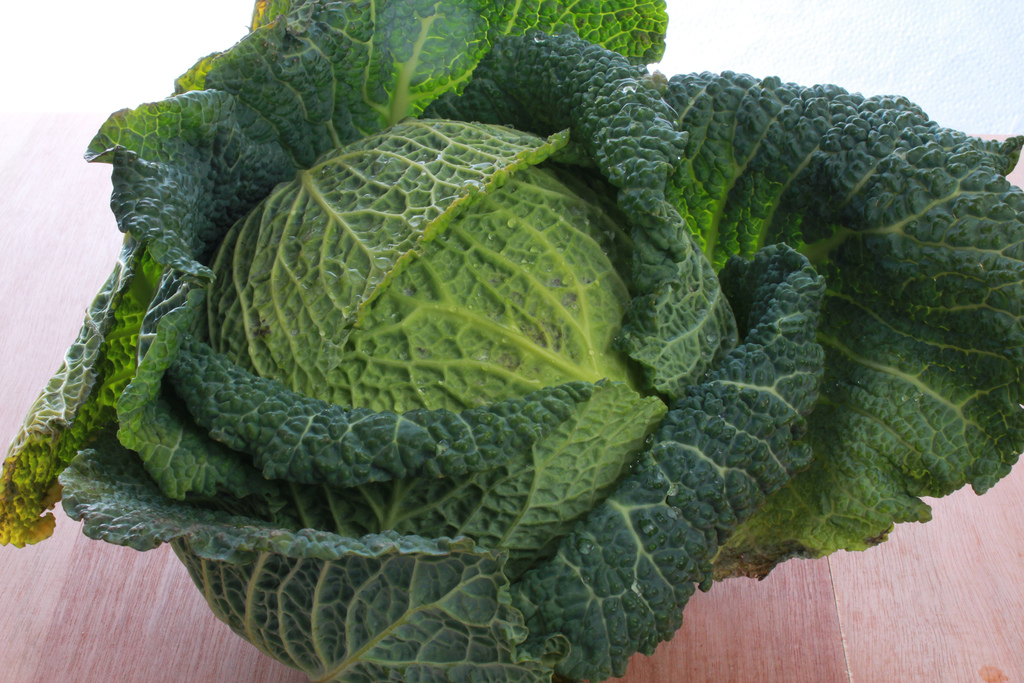Cabbage: (0, 0, 1023, 683)
